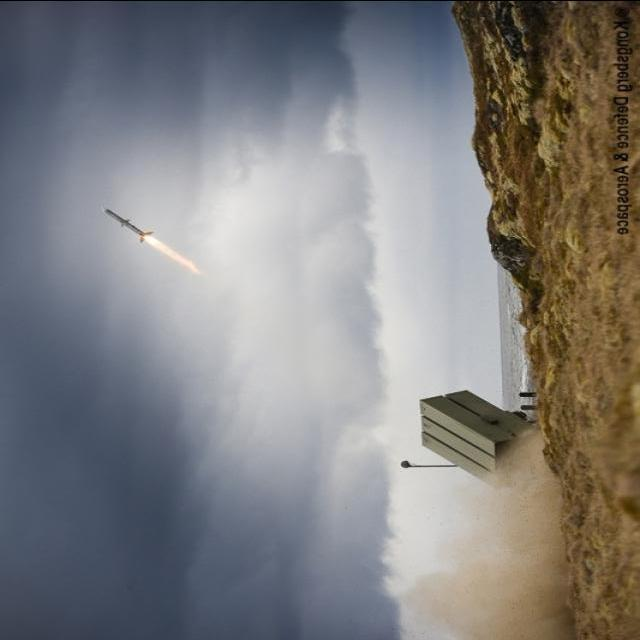missile: (98, 204, 154, 246)
